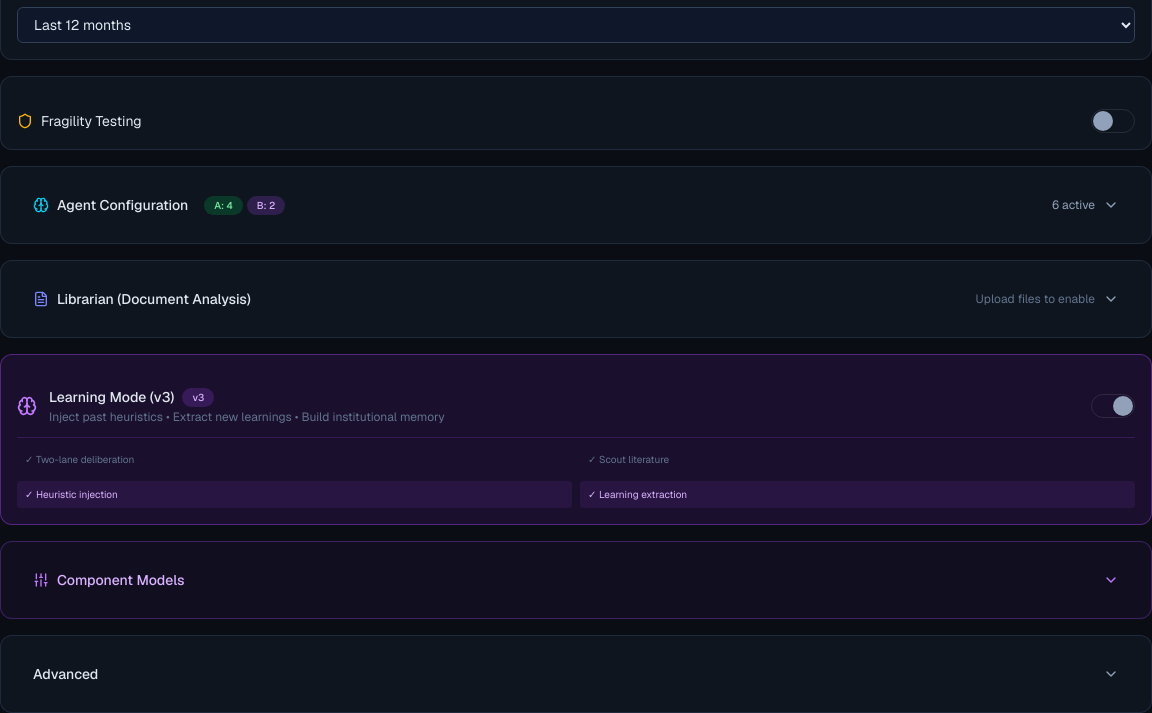
Scenario: ConfigPanel › Advanced Section › expands when clicked
The image size is (1152, 713).
(page scrolled)
Click the text "Advanced" at [66, 674], box [33, 664, 98, 684]
(page scrolled)
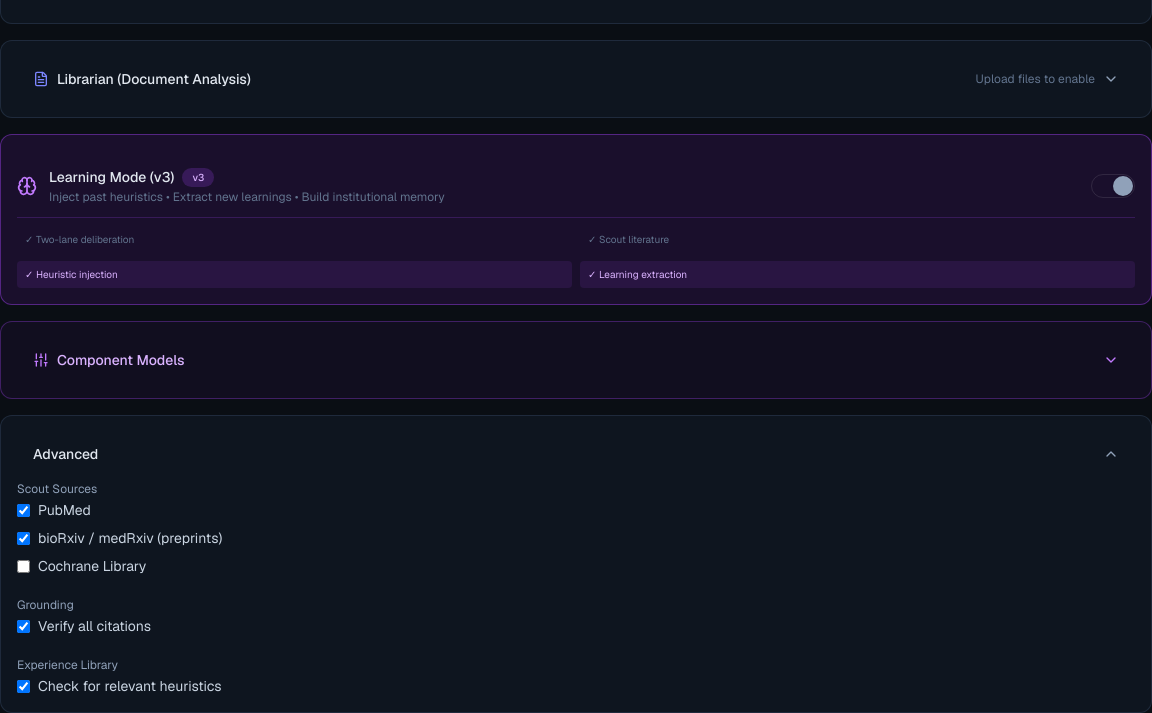
Check: the text "Scout Sources" is shown, box [17, 481, 97, 497]
Check: the text "PubMed" is shown, box [17, 501, 91, 519]
